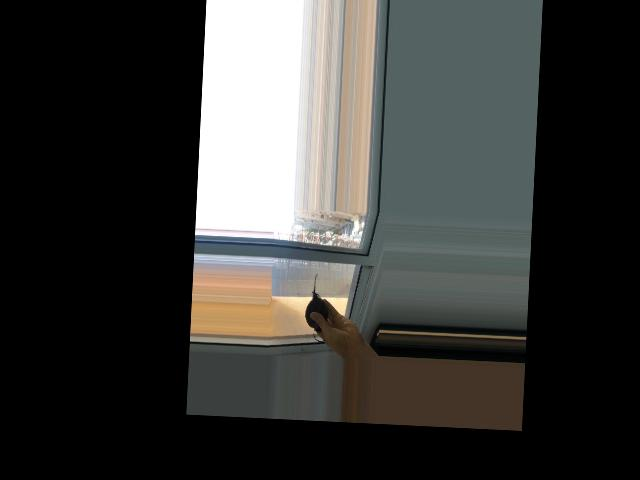beet: (304, 273, 336, 342)
